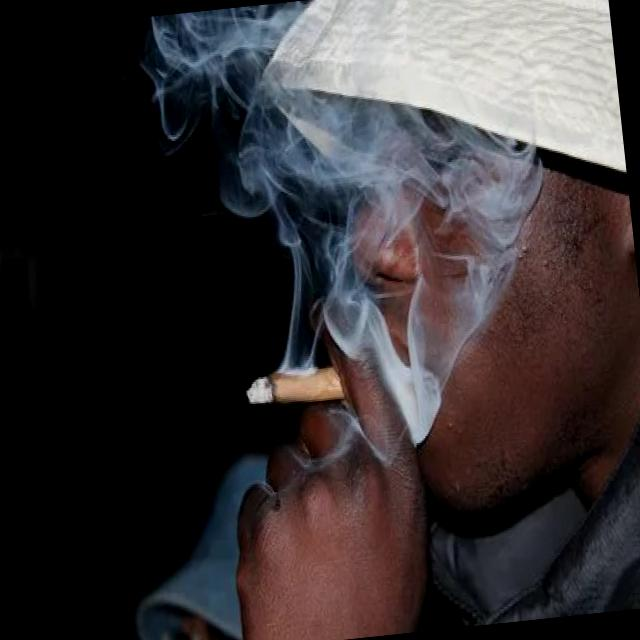cigarette: (234, 357, 353, 415)
